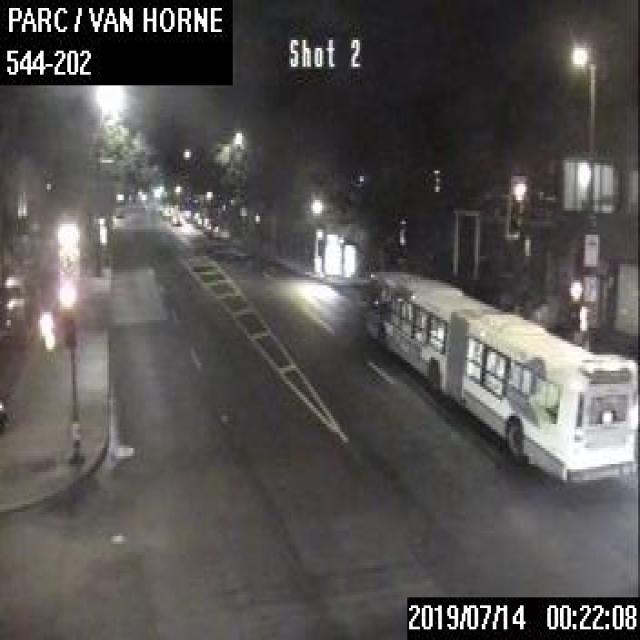bus: (361, 266, 638, 486)
vehicle: (0, 270, 36, 334), (170, 210, 182, 223)
